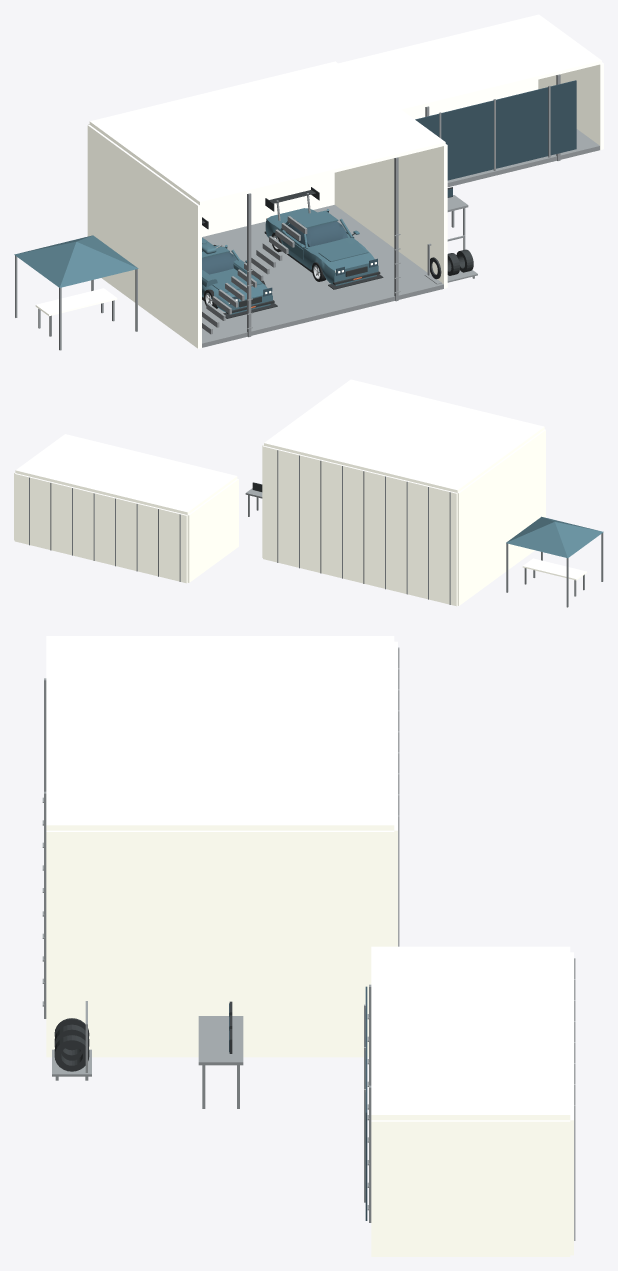
Rendered from endurance-and-gt-paddock-paddock-day-fd768cc6__14967.glb.
The picture shows the model from 3 angles, top to bottom: view 1: azimuth 30°, elevation 25°; view 2: azimuth 150°, elevation 25°; view 3: azimuth 270°, elevation 25°; orthographic projection. The views are drawn at different scales.
Visible parts, largest first — view 1: 000-endurance-pit-garage/1, 004-hospitality-unit/1, 000-endurance-pit-garage/0, 004-hospitality-unit/2, 005-campsite-gazebo/1, 002-gt4-sports-car/0, 004-hospitality-unit/0, 001-secondary-prototype/0, 006-autograph-table/1, 002-gt4-sports-car/1, 002-gt4-sports-car/4, 007-wheel-trolley/1 (+5 smaller); view 2: 000-endurance-pit-garage/1, 004-hospitality-unit/1, 005-campsite-gazebo/1, 000-endurance-pit-garage/0, 004-hospitality-unit/0, 006-autograph-table/1, 005-campsite-gazebo/0; view 3: 000-endurance-pit-garage/1, 004-hospitality-unit/1, 003-engineer-stand/0, 004-hospitality-unit/0, 000-endurance-pit-garage/0, 007-wheel-trolley/1.
Boxes of the visible parts, left/top/right/bottom form: 000-endurance-pit-garage/1: left=87, top=61, right=447, bottom=348; 004-hospitality-unit/1: left=338, top=14, right=603, bottom=149; 000-endurance-pit-garage/0: left=202, top=157, right=443, bottom=347; 004-hospitality-unit/2: left=415, top=80, right=576, bottom=180; 005-campsite-gazebo/1: left=14, top=235, right=138, bottom=287; 002-gt4-sports-car/0: left=265, top=208, right=378, bottom=285; 004-hospitality-unit/0: left=425, top=74, right=599, bottom=187; 001-secondary-prototype/0: left=202, top=238, right=272, bottom=314; 006-autograph-table/1: left=35, top=288, right=117, bottom=316; 002-gt4-sports-car/1: left=286, top=221, right=377, bottom=275; 002-gt4-sports-car/4: left=264, top=187, right=383, bottom=289; 007-wheel-trolley/1: left=430, top=249, right=473, bottom=279; 000-endurance-pit-garage/1: left=262, top=379, right=545, bottom=606; 004-hospitality-unit/1: left=14, top=434, right=238, bottom=583; 005-campsite-gazebo/1: left=506, top=516, right=603, bottom=558; 000-endurance-pit-garage/0: left=277, top=450, right=450, bottom=604; 004-hospitality-unit/0: left=29, top=477, right=180, bottom=581; 006-autograph-table/1: left=522, top=558, right=586, bottom=580; 005-campsite-gazebo/0: left=506, top=533, right=603, bottom=607; 000-endurance-pit-garage/1: left=46, top=636, right=397, bottom=1057; 004-hospitality-unit/1: left=371, top=946, right=573, bottom=1256; 003-engineer-stand/0: left=198, top=1016, right=243, bottom=1108; 004-hospitality-unit/0: left=364, top=958, right=575, bottom=1240; 000-endurance-pit-garage/0: left=42, top=647, right=399, bottom=1018; 007-wheel-trolley/1: left=54, top=1018, right=89, bottom=1071.
Size of the model in its own units: 22.52 by 5.12 by 10.71.
